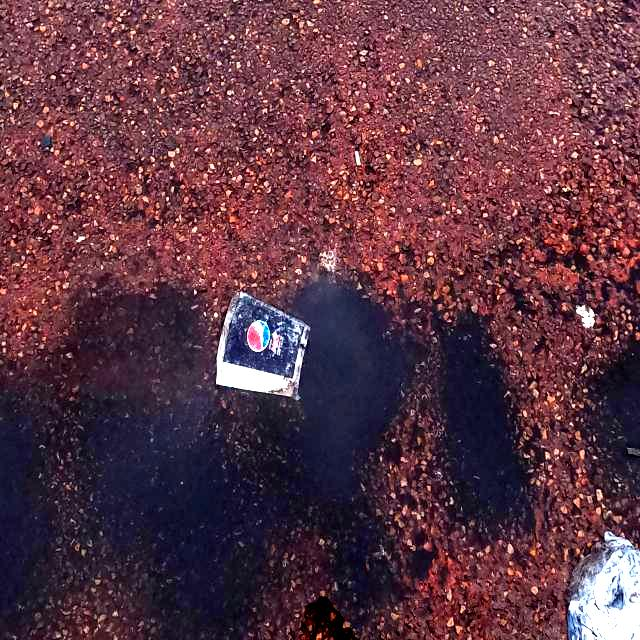Coffee Cup: (212, 286, 312, 404)
